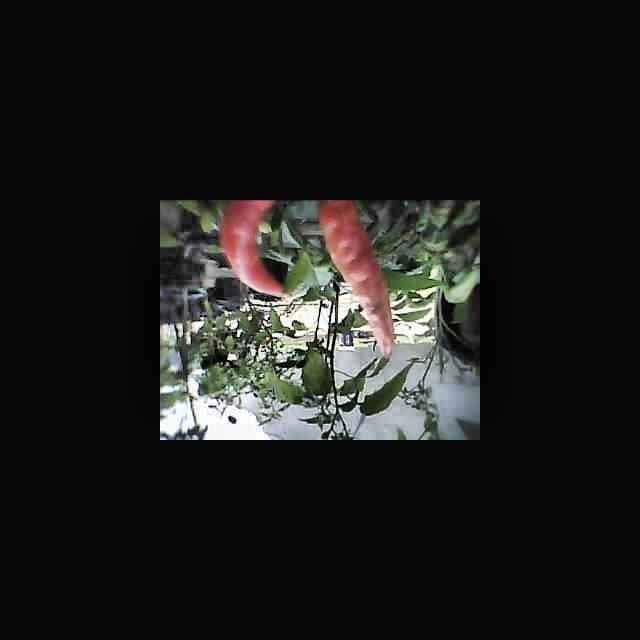Cabai: (320, 201, 419, 359), (221, 201, 291, 310)
